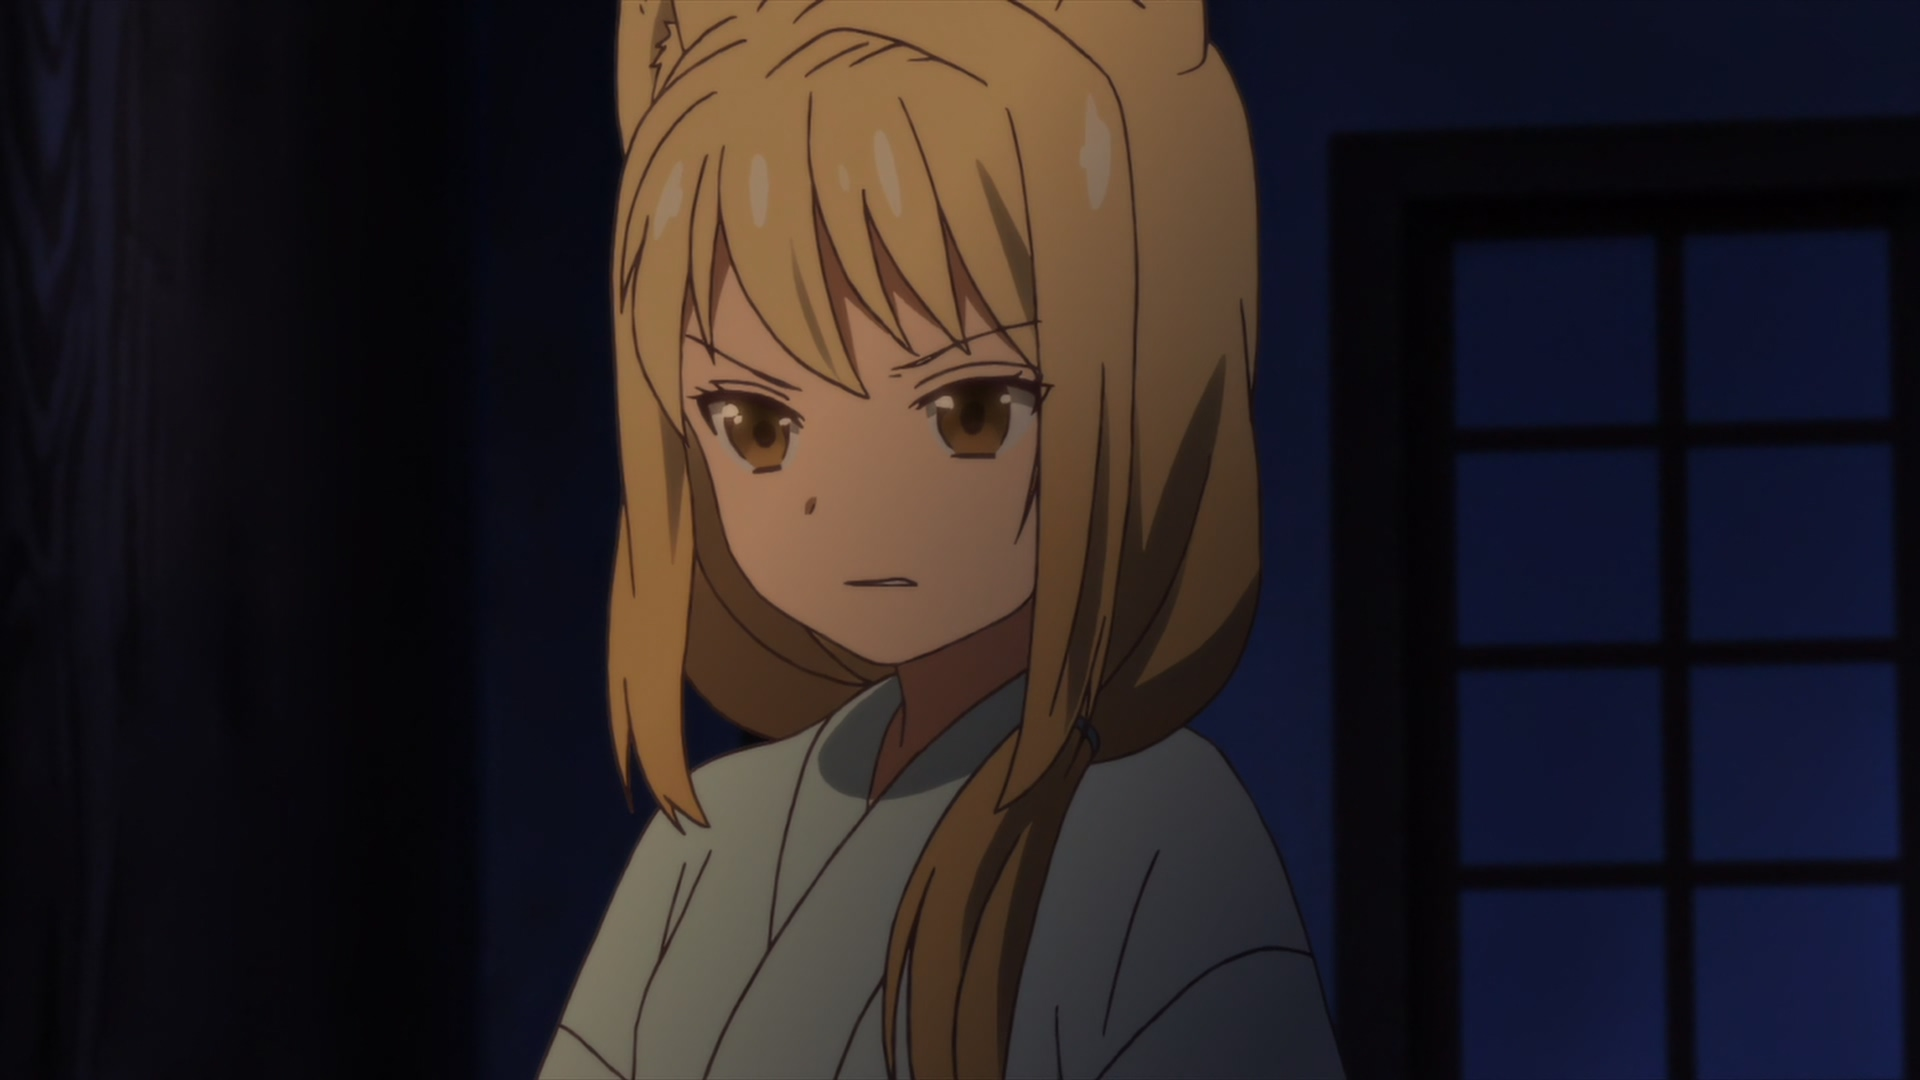桐: (537, 1, 1346, 1080)
